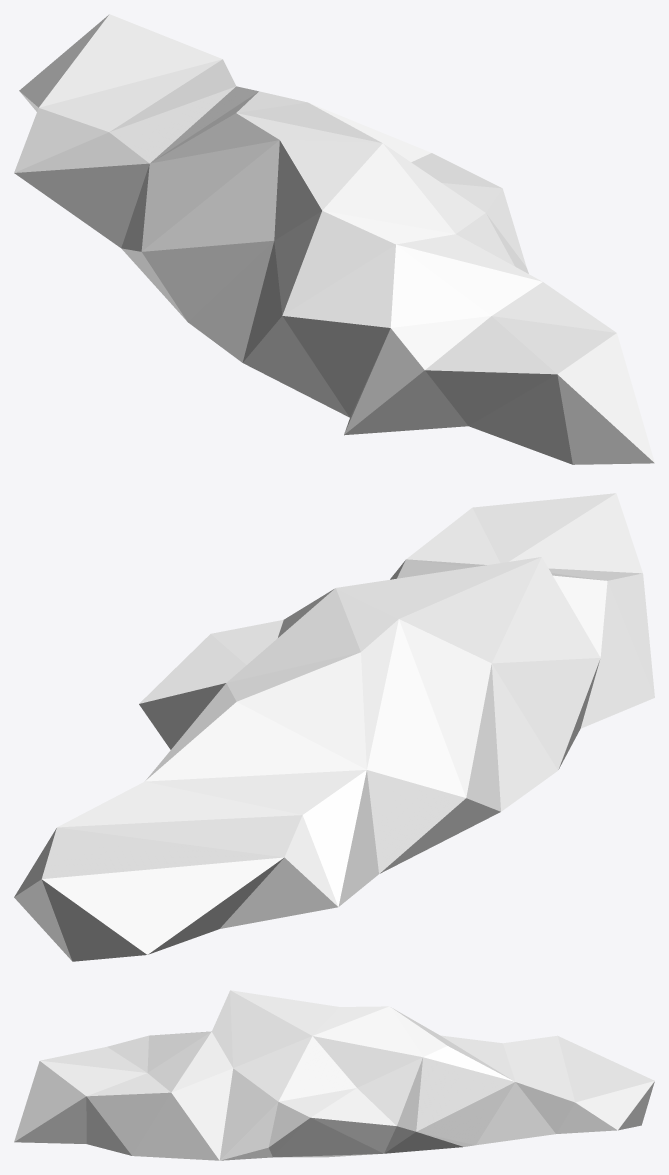
File: RG_Cloud-03.fbx
3 renders of one model, top to bottom at view 1: azimuth 30°, elevation 25°; view 2: azimuth 150°, elevation 25°; view 3: azimuth 270°, elevation 25°, orthographic. The views are drawn at different scales.
Parts seen in each view (by area): view 1: RG_Cloud-03; view 2: RG_Cloud-03; view 3: RG_Cloud-03.
Part boxes in pixels (x1,y1,x2,y2): RG_Cloud-03: (14,14,654,464); RG_Cloud-03: (14,493,654,961); RG_Cloud-03: (14,990,654,1160).
Bounding box in the file's own units: 100 × 62.3 × 293.
